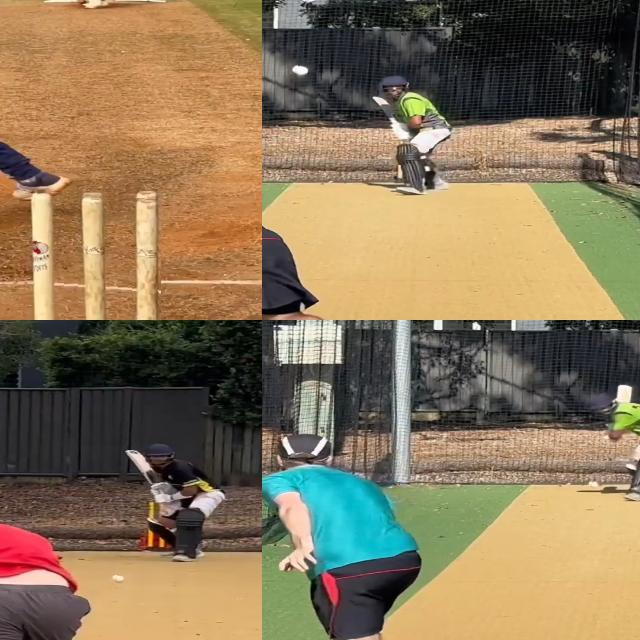Cricket ball: (291, 63, 308, 77), (585, 479, 602, 489), (110, 573, 126, 583), (77, 0, 86, 4)
Stumps: (29, 189, 161, 320)
